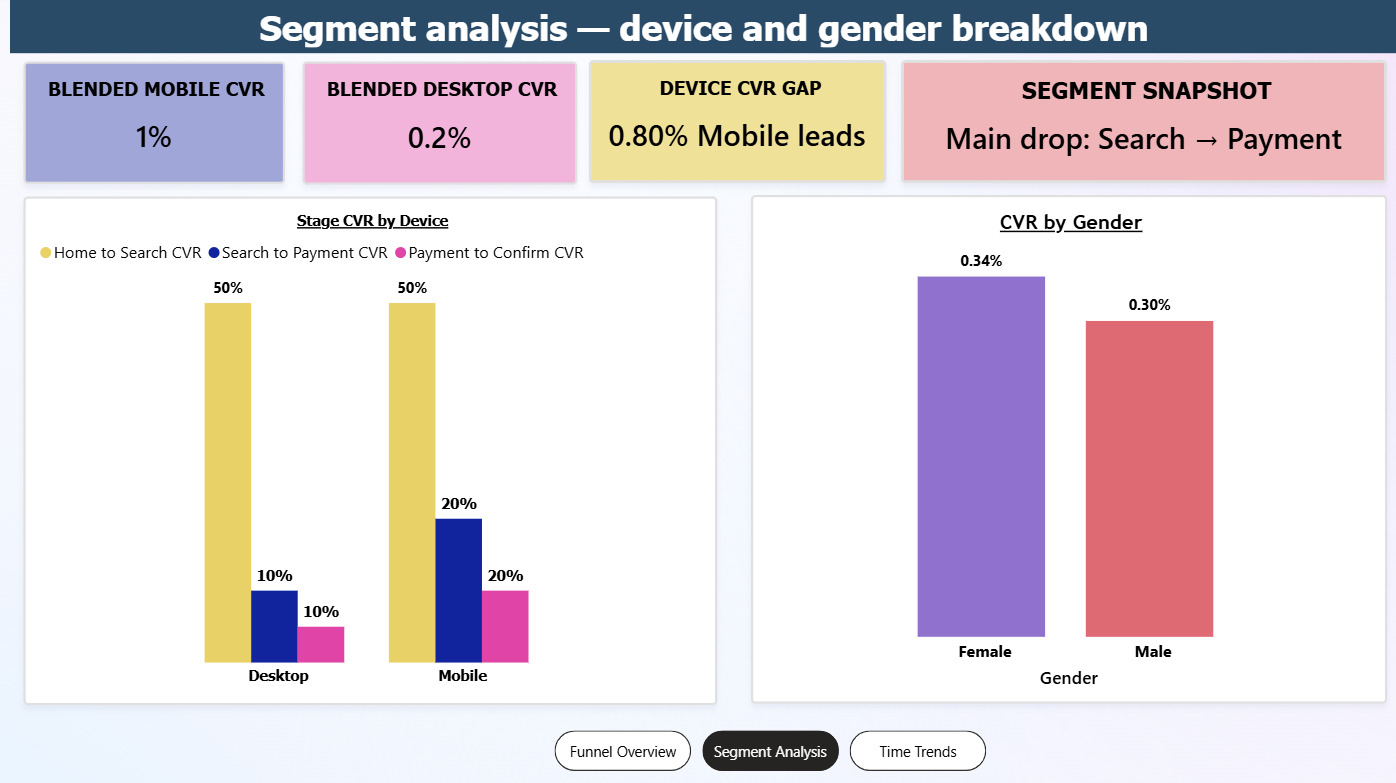

Layout of this report page (visuals, bound fields, positions):
{"tool":"powerbi","page":{"name":"Segment Analysis","canvas":[1280,720],"ordinal":1},"visuals":[{"type":"textbox","box":[10.6,0,1270,48.5],"z":0},{"type":"card","title":"BLENDED MOBILE CVR","fields":{"Values":["Measure_Table.Mobile CVR"]},"box":[23.6,56.1,239.2,112.2],"z":1000},{"type":"card","title":"BLENDED DESKTOP CVR","fields":{"Values":["Measure_Table.Desktop CVR"]},"box":[278.6,56.3,251.1,112.5],"z":2000},{"type":"card","title":"DEVICE CVR GAP","fields":{"Values":["Measure_Table.CVR Gap"]},"box":[540.7,54.9,271.7,112.5],"z":3000},{"type":"clusteredColumnChart","title":"Stage CVR by Device","fields":{"Y":["Measure_Table.Home to Search Rate","Measure_Table.Search to Payment Rate","Measure_Table.Payment to Confirm Rate"],"Category":["funnel_data.device"]},"box":[23.6,180.1,634.8,465.1],"z":4000},{"type":"clusteredColumnChart","title":"CVR by Gender","fields":{"Category":["funnel_data.sex"],"Y":["Measure_Table.Monthly CVR"]},"box":[688.9,178.4,581.9,465.2],"z":5000},{"type":"bookmarkNavigator","box":[508.8,667.7,398,37.9],"z":6000},{"type":"card","title":"SEGMENT SNAPSHOT","fields":{"Values":["Measure_Table.Segment Insight"]},"box":[826.1,54.9,444.6,112.5],"z":7000}]}

Visuals, with their boxes in screenshot pixels (x1, y1, x2, y2), scaled from the page's 1280x720 canvas onto the 1396x783 screenshot:
textbox: <bbox>12, 0, 1395, 53</bbox>
"BLENDED MOBILE CVR" card: <bbox>26, 61, 287, 183</bbox>
"BLENDED DESKTOP CVR" card: <bbox>304, 61, 578, 184</bbox>
"DEVICE CVR GAP" card: <bbox>590, 60, 886, 182</bbox>
"Stage CVR by Device" clusteredColumnChart: <bbox>26, 196, 718, 702</bbox>
"CVR by Gender" clusteredColumnChart: <bbox>751, 194, 1386, 700</bbox>
bookmarkNavigator: <bbox>555, 726, 989, 767</bbox>
"SEGMENT SNAPSHOT" card: <bbox>901, 60, 1386, 182</bbox>
